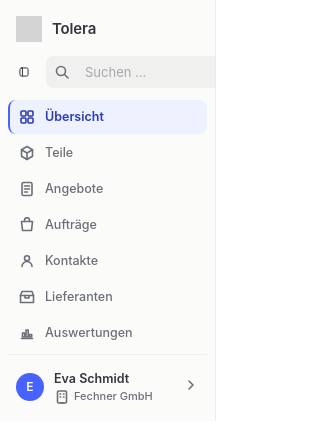
Test: org-switcher (M0.4 stub) › lists every membership and marks the active org; others are not switchable yet
This screenshot has width=320, height=438.
Click the button with aria-label "Konto" at (108, 387), box [8,363,207,411]
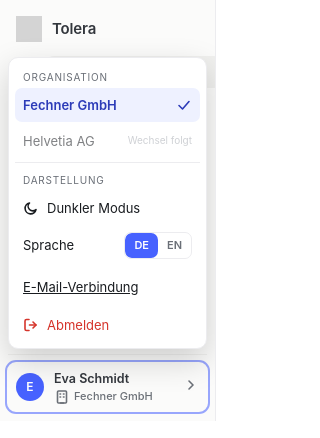
Result: the text "Fechner GmbH" is shown at [23,95,117,115]
Result: the text "Helvetia AG" is shown at [23,131,95,151]
Result: the button "Helvetia AG Wechsel folgt" is disabled at [15,124,200,158]
